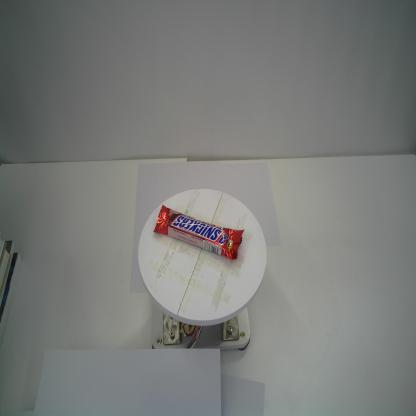Chocolate: (153, 203, 245, 260)
